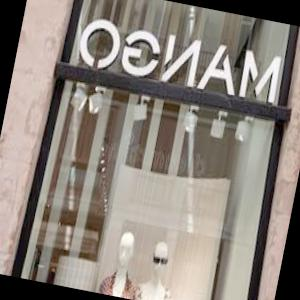mango: (73, 13, 286, 104)
